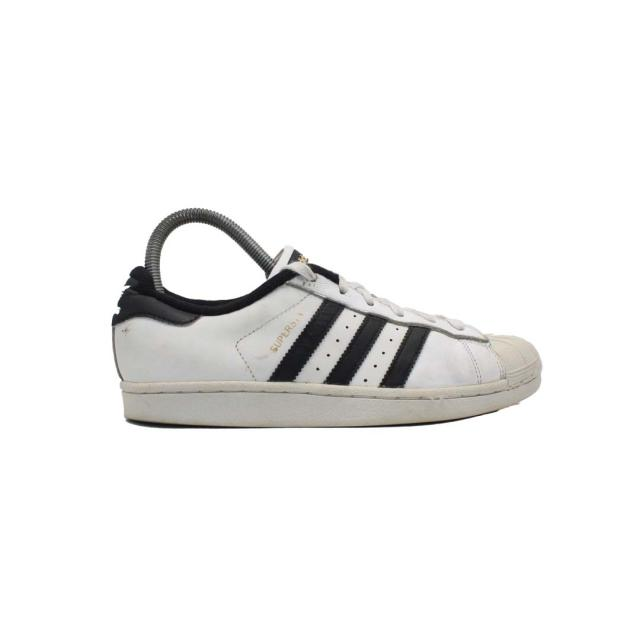heel: (92, 245, 138, 381)
midsole: (114, 390, 554, 428)
uppersole: (139, 231, 545, 385)
